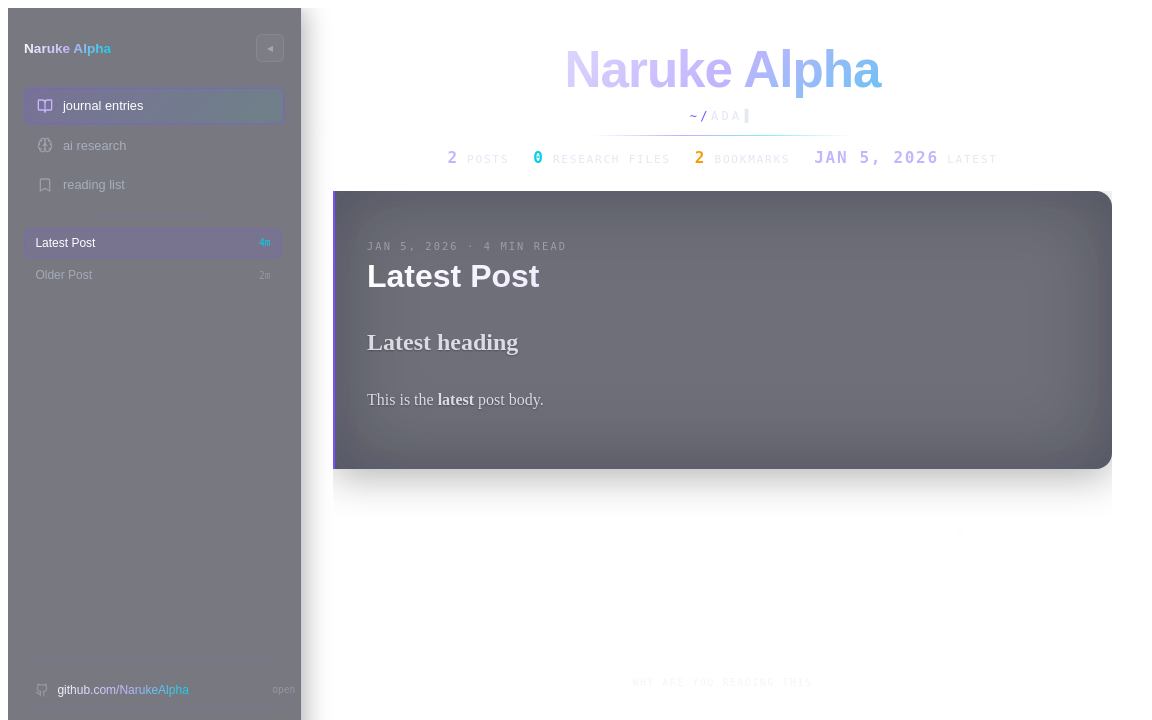
Test: public site selects the first post and keeps the hash in sync
Expected: the heading "Latest Post" is shown, [367,258,1080,295]
Expected: the text "Jan 5, 2026 · 4 min read" is shown, [367,240,567,252]
Click the button "Older Post 2m" at (153, 275), box [24,260,282,291]
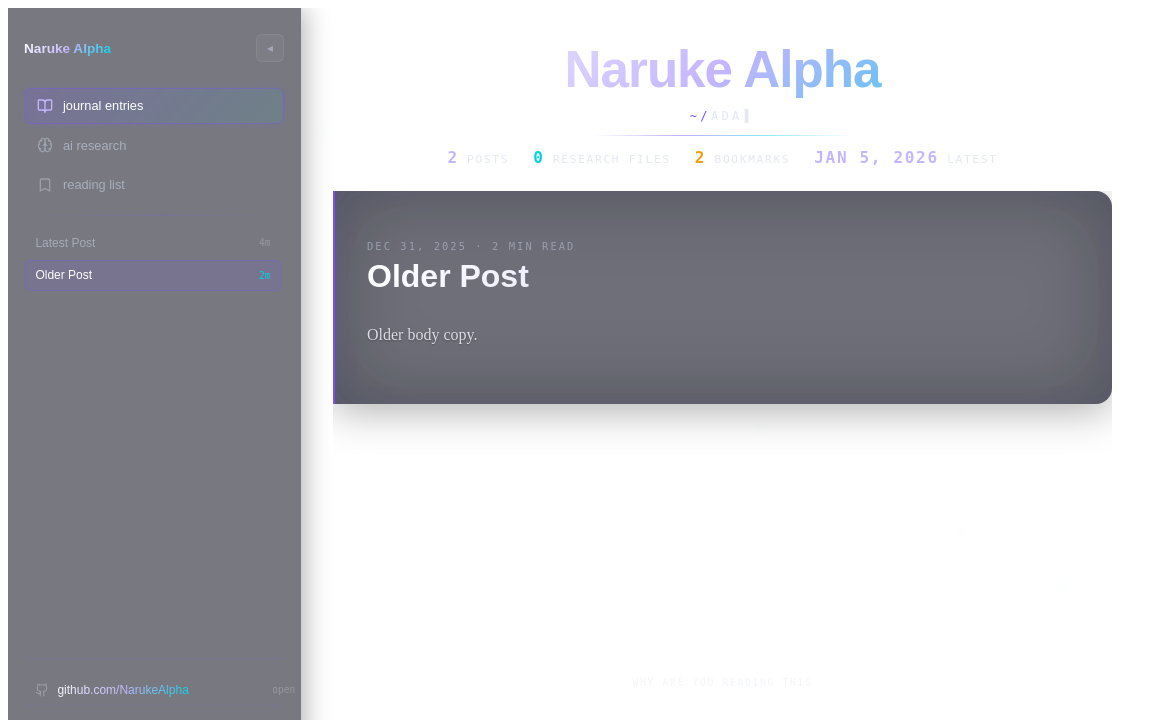
Now the heading "Older Post" is shown, box [367,258,1080,295]
